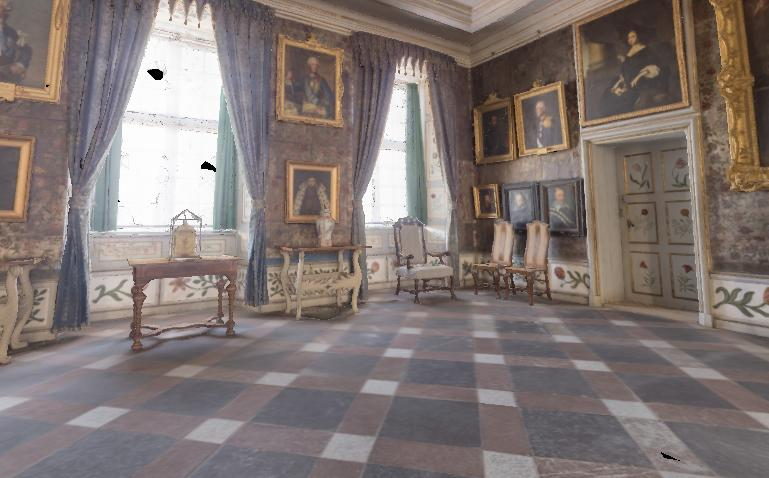chair: (386, 215, 460, 308), (503, 215, 565, 307), (463, 212, 515, 299)
door: (615, 135, 698, 311)
door-frame: (580, 112, 725, 333)
table: (115, 240, 252, 355), (263, 227, 380, 324)
